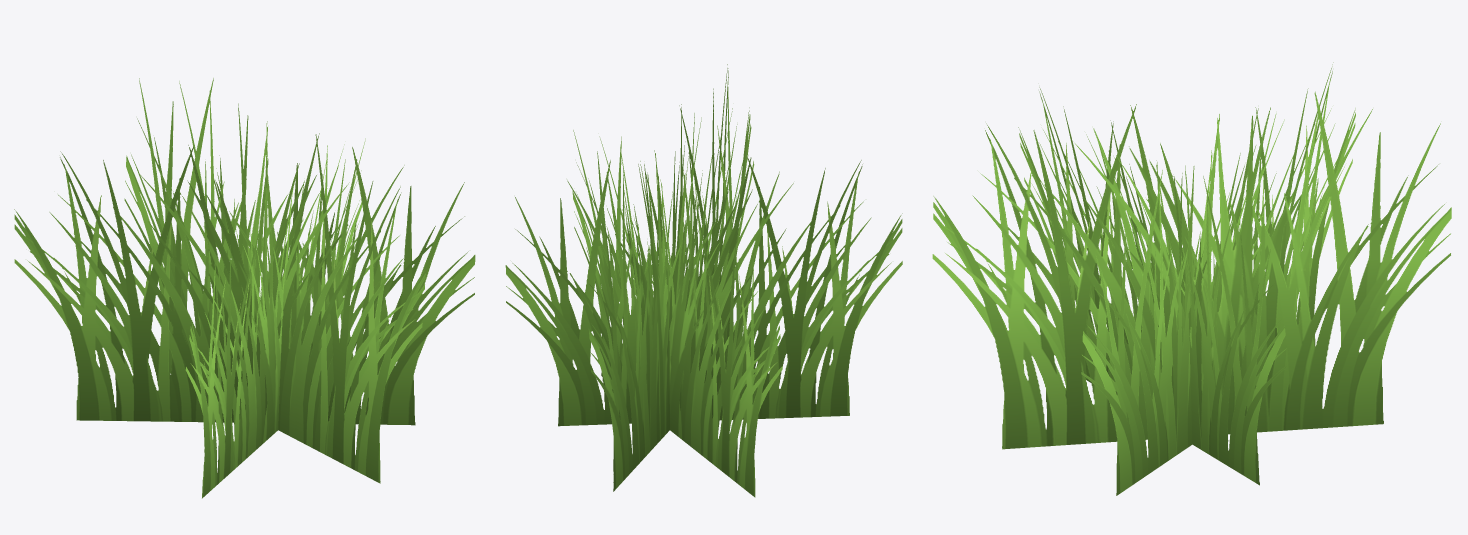
The model's file is grass_3.glb.
3 renders of one model, left to right at view 1: azimuth 30°, elevation 25°; view 2: azimuth 150°, elevation 25°; view 3: azimuth 270°, elevation 25°, orthographic. The views are drawn at different scales.
Parts seen in each view (by area): view 1: grass_3; view 2: grass_3; view 3: grass_3.
Boxes of the visible parts, x1,y1,x2,y2 form: grass_3: (14, 78, 475, 498); grass_3: (505, 64, 902, 497); grass_3: (932, 62, 1451, 495).
Bounding box in the file's own units: 0.4868 × 0.4482 × 0.5752.
1 material, 1 textured.
